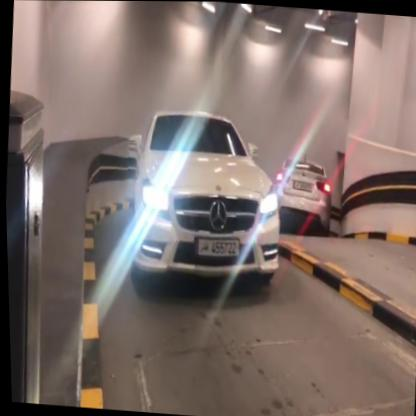np: (190, 233, 242, 260)
